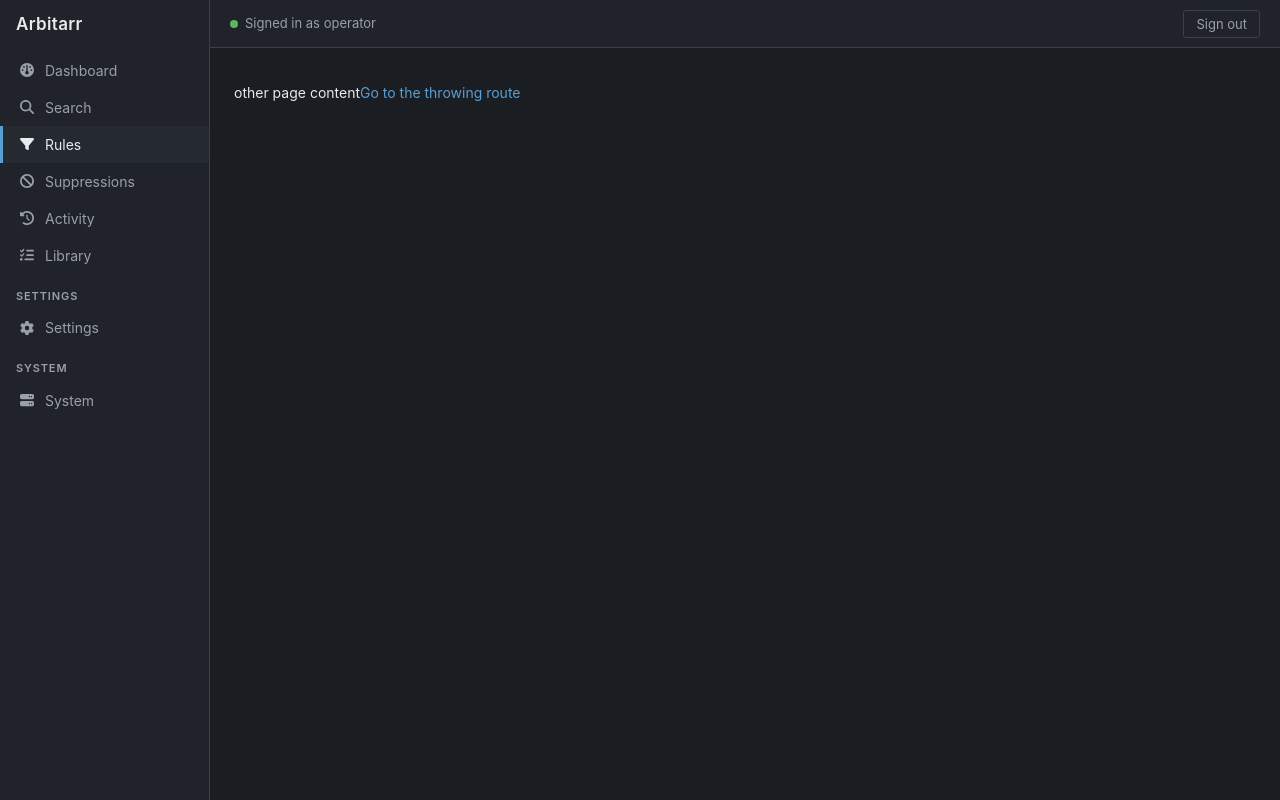
Test: AppShell + RouteError document title (arb-penl) › restores the destination route's own title after navigating away from the error
Expected: the text "other page content" is shown, [234,84,360,101]
Click the link "Go to the throwing route": (440, 92) [360,84,520,101]
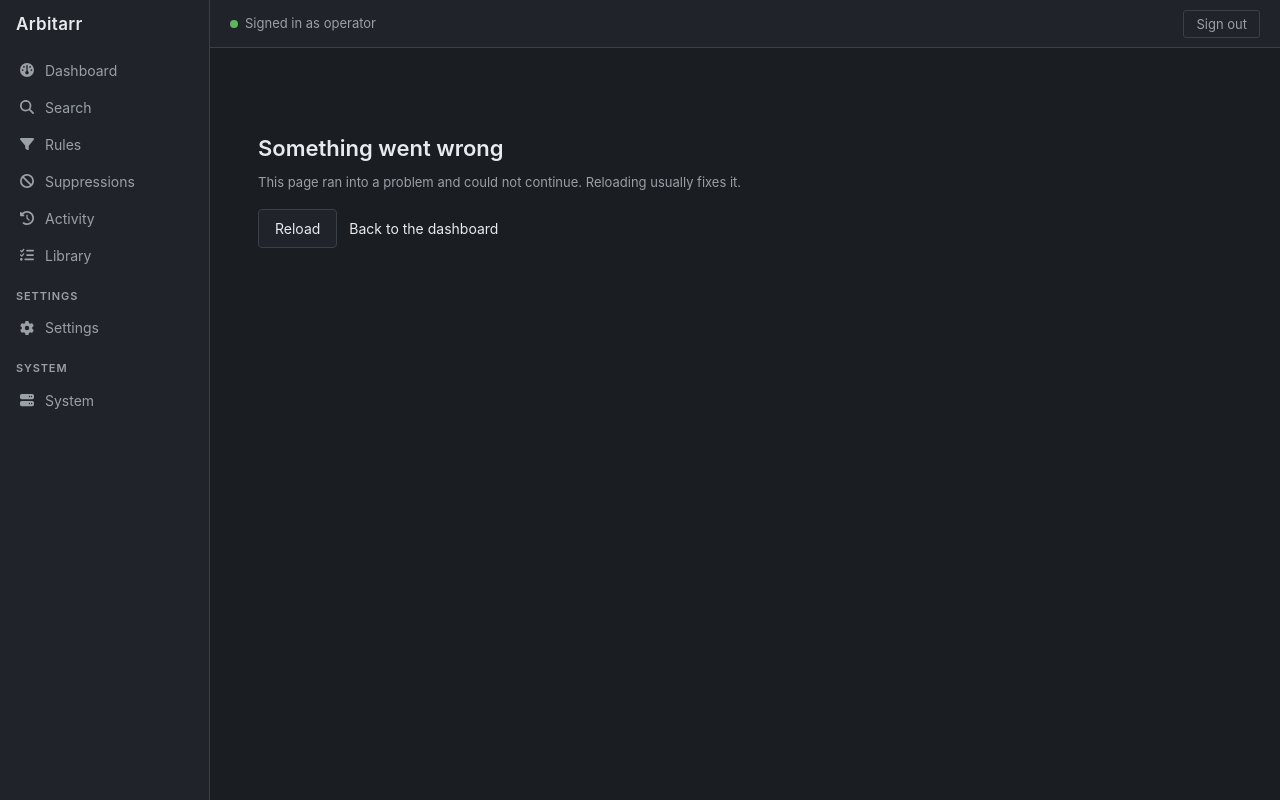
Now the message is shown, box [258,135,741,248]
Click the link "Rules": (50, 144) [19,136,81,152]
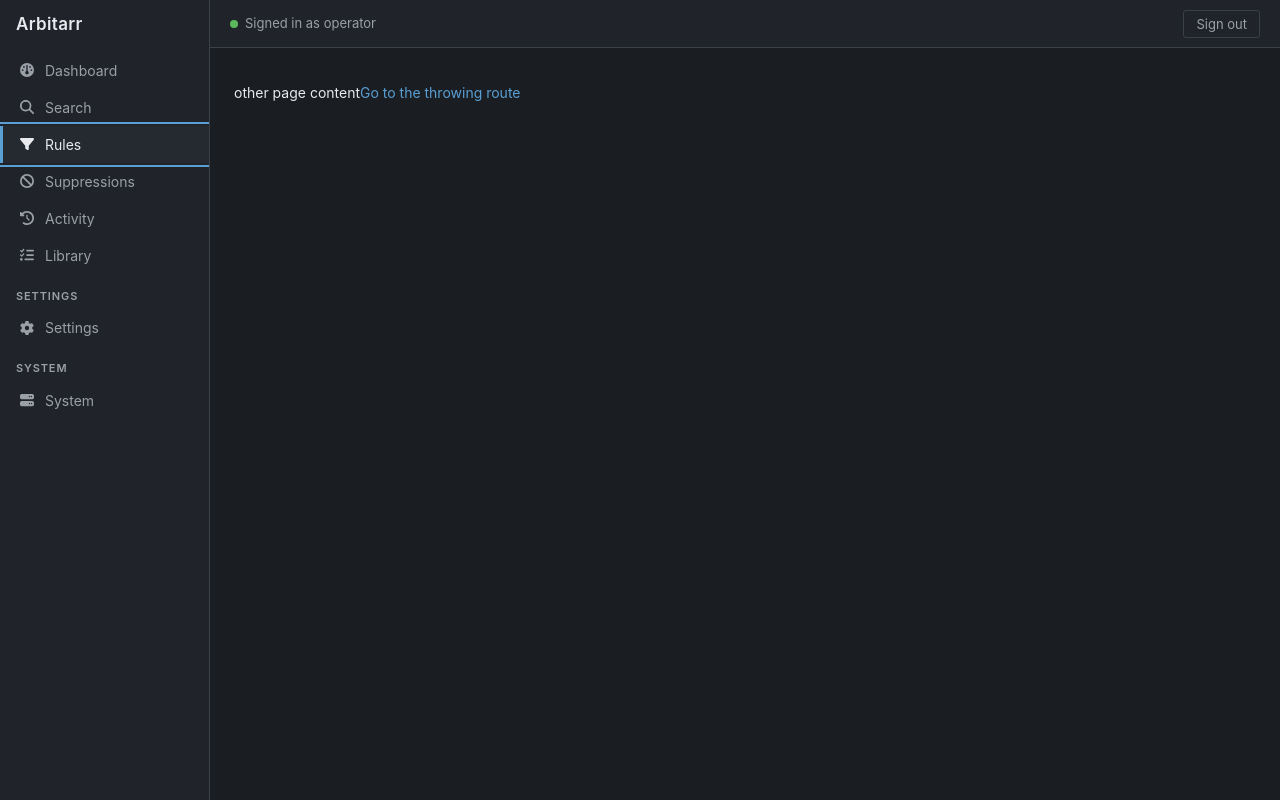
Now the text "other page content" is shown, box [234,84,360,101]
